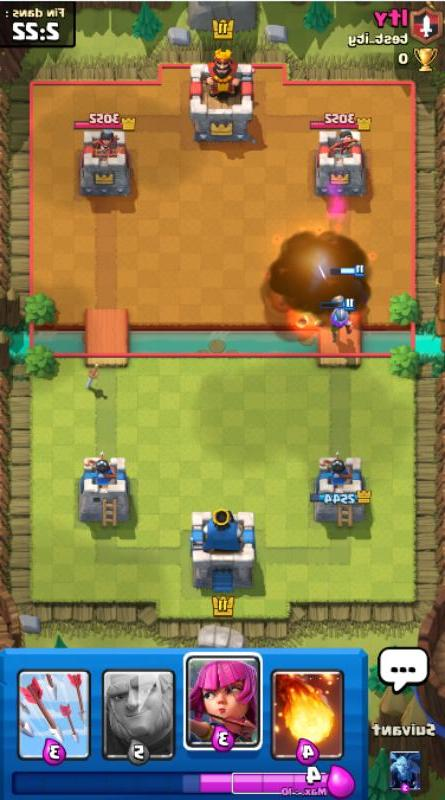chevalier: (316, 263, 365, 290)
mousquetaire: (320, 295, 354, 345)
